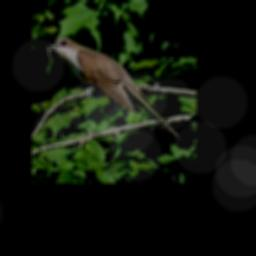Cuckoo: (46, 36, 181, 143)
